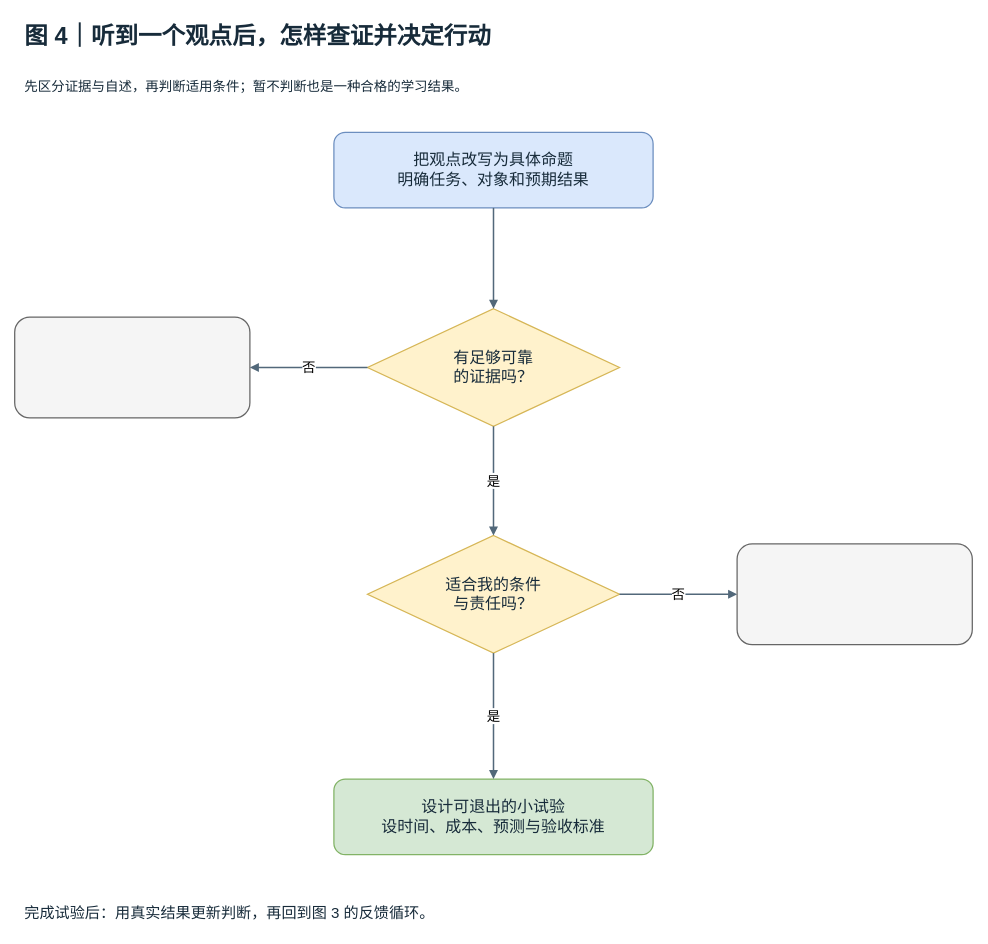
Image size: 988x944. Some labels were removed from this diagram. The centre of each missing label's shape, as x and y in pixels:
不照搬 调整范围或继续观察: the point at 854,594
记录为未确认 寻找原始资料；保持问题开放: the point at 132,367
